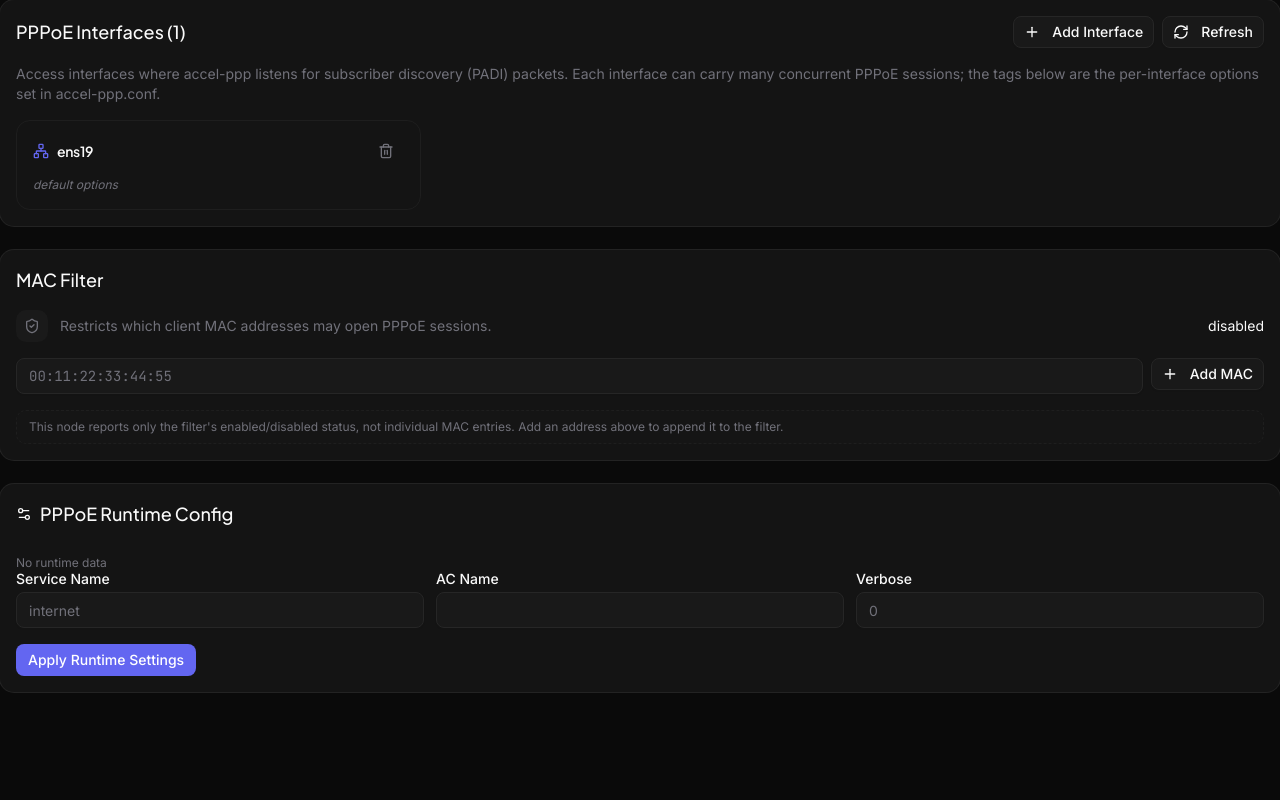
Scenario: PppoePage › opens the add-interface dialog and requires an interface name
The image size is (1280, 800).
Click the button "Add Interface" at (1084, 32), box [1013, 16, 1154, 48]
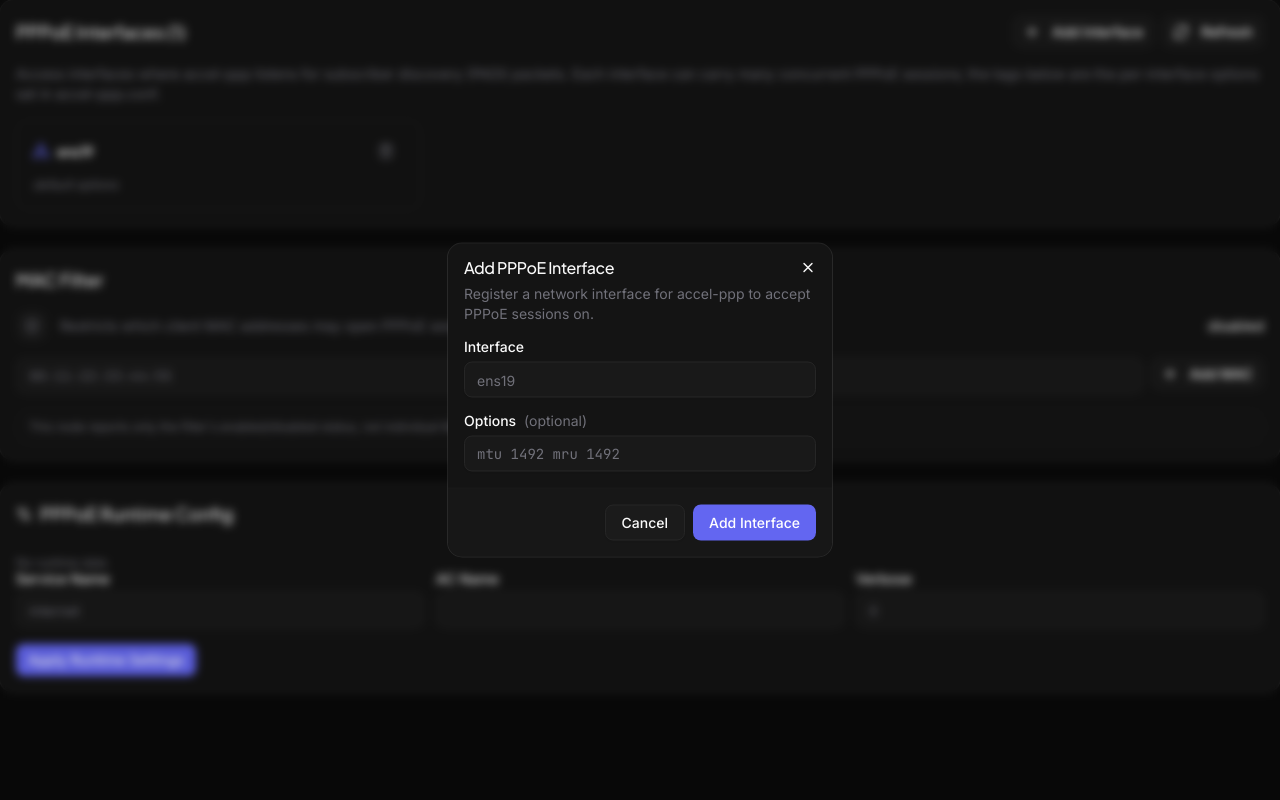
Now the heading "Add PPPoE Interface" is shown, box [464, 256, 614, 278]
Submit with an empty name → inline required error, no mutation.
Submit the text "Add Interface", box [464, 340, 816, 540]
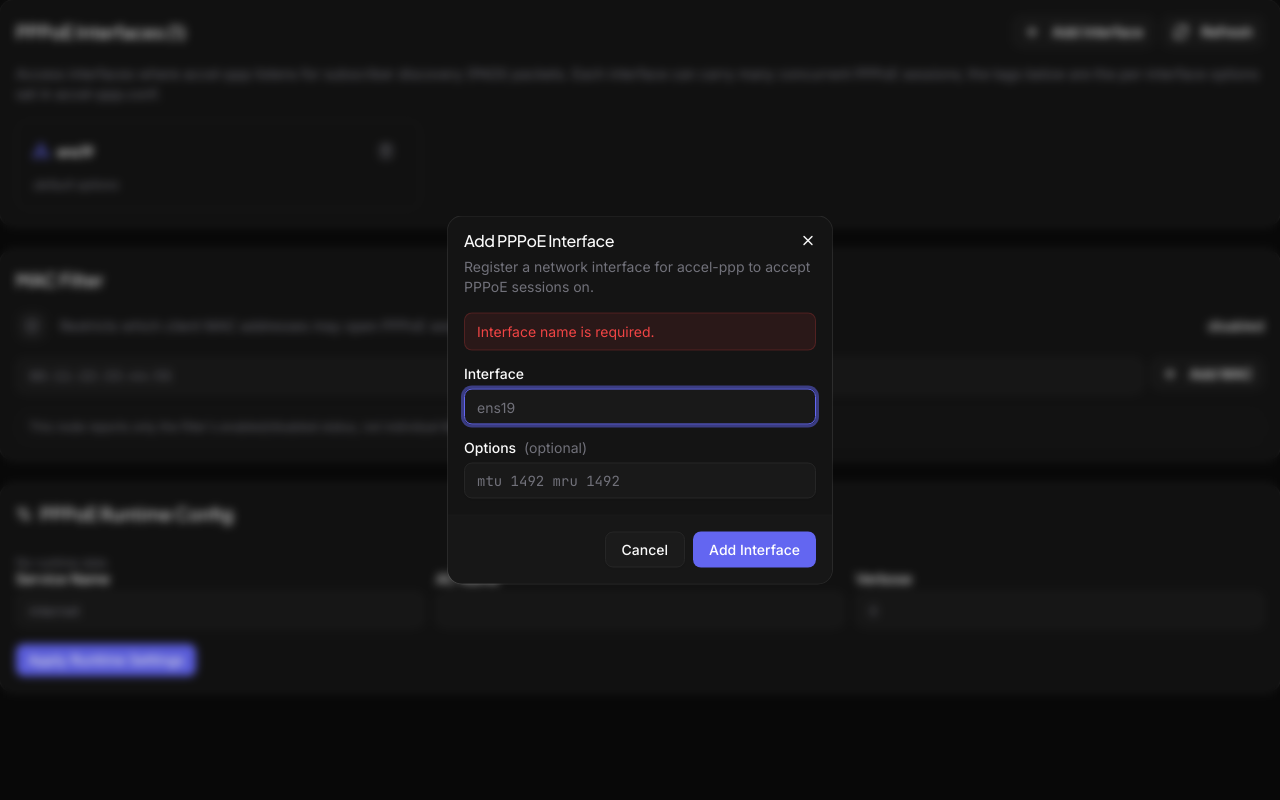
Now the text "Interface name is required." is shown, box [464, 312, 816, 350]
